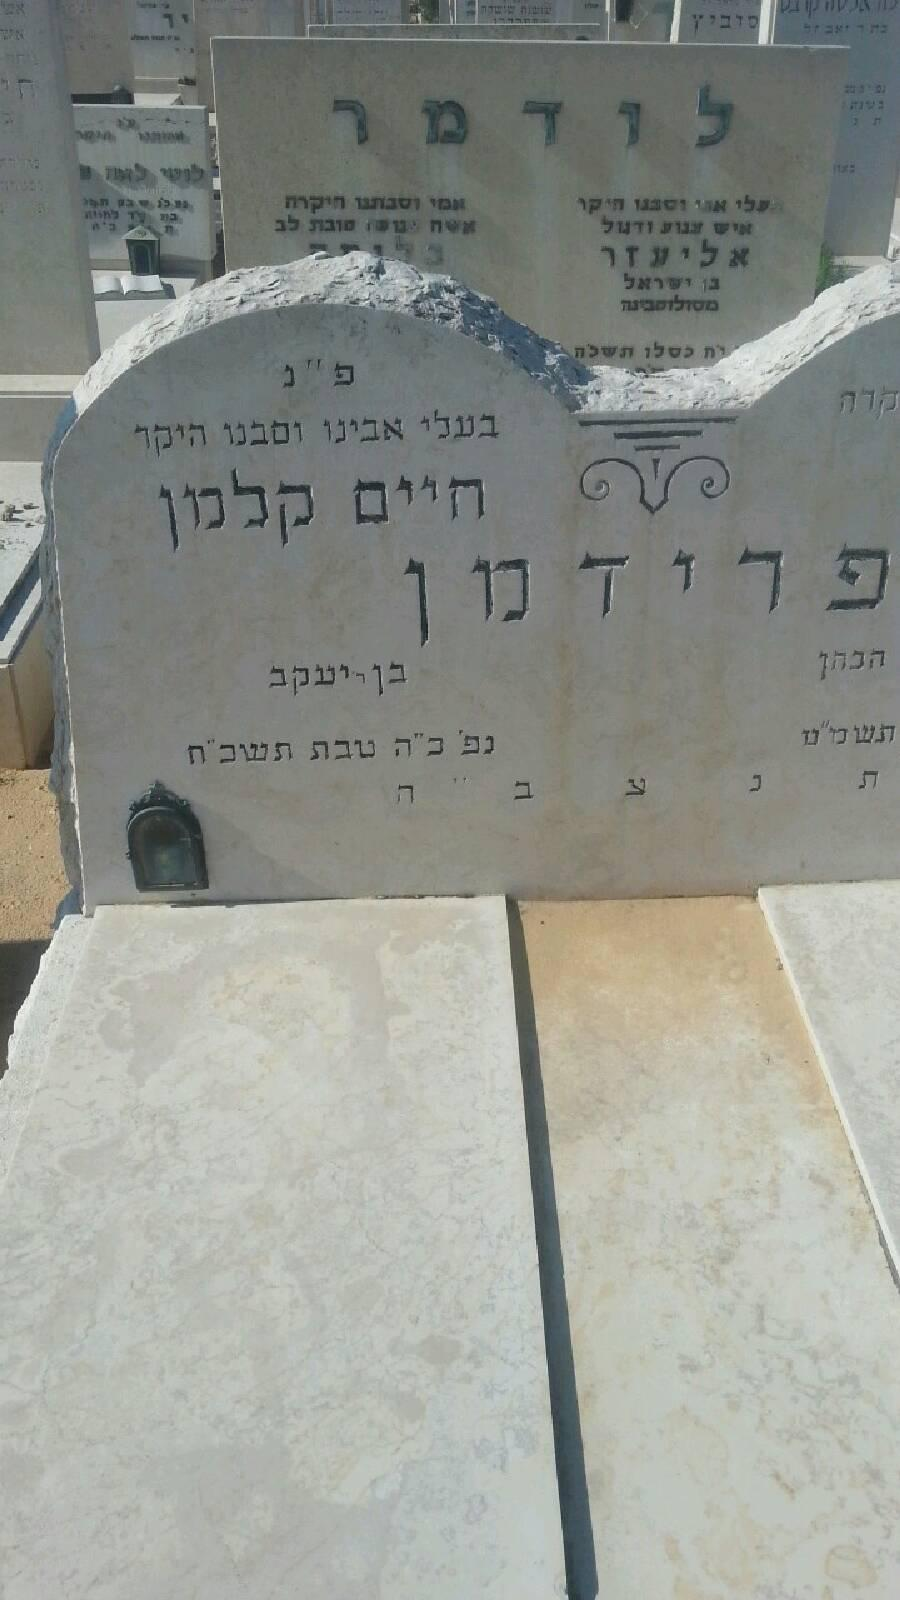vault: (21, 224, 900, 1600)
